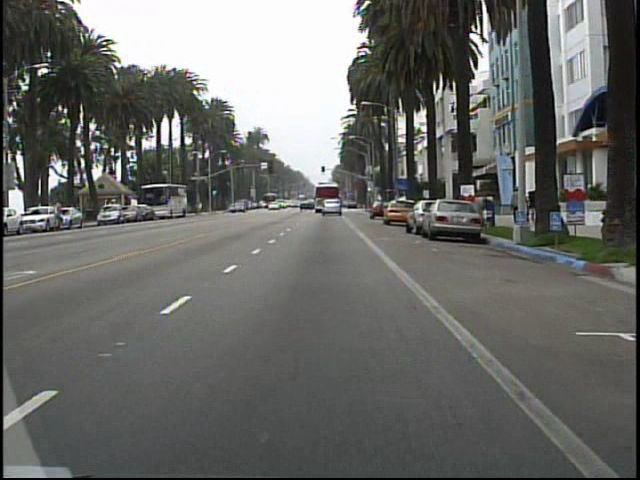person: (536, 180, 555, 230), (507, 181, 524, 227)
